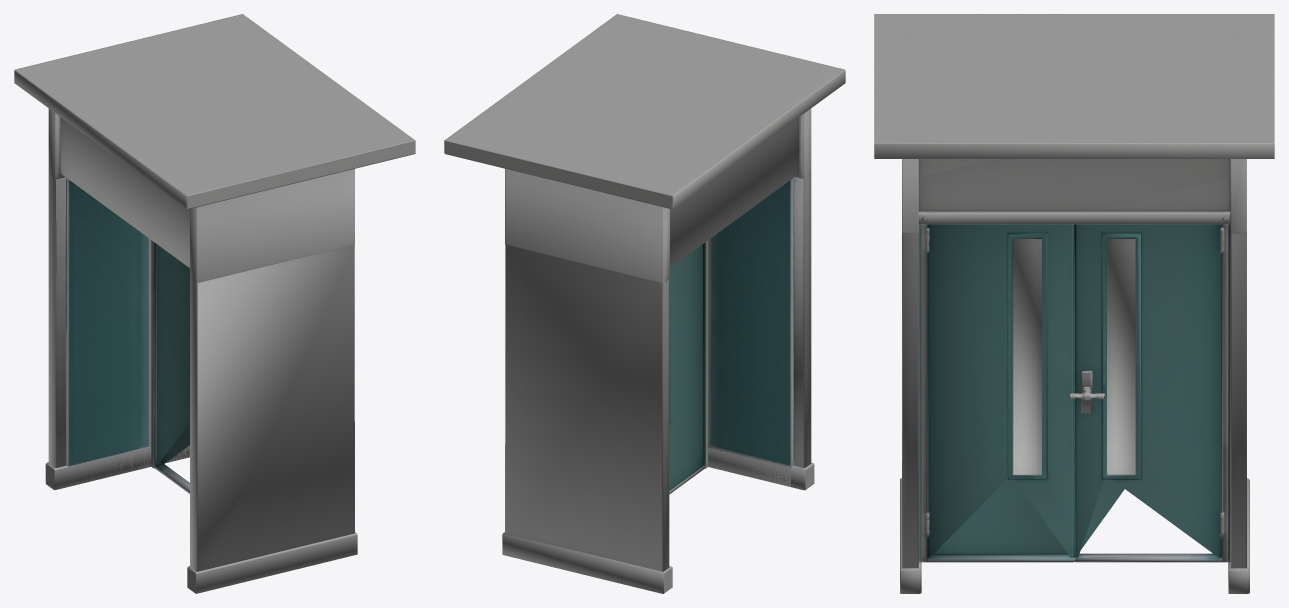
The model's file is door-frame.glb.
3 views of the same model, side by side, from view 1: azimuth 30°, elevation 25°; view 2: azimuth 150°, elevation 25°; view 3: azimuth 270°, elevation 25° (orthographic). The views are drawn at different scales.
Visible parts, largest first — view 1: tripo_node_kodyurd-model-16____________________; view 2: tripo_node_kodyurd-model-16____________________; view 3: tripo_node_kodyurd-model-16____________________.
Part boxes in pixels (x1,y1,x2,y2): tripo_node_kodyurd-model-16____________________: [14, 14, 415, 593]; tripo_node_kodyurd-model-16____________________: [444, 14, 845, 593]; tripo_node_kodyurd-model-16____________________: [874, 14, 1274, 593].
Bounding box in the file's own units: 0.584 × 0.998 × 0.7598.
Materials: 1 (1 with a texture image).
